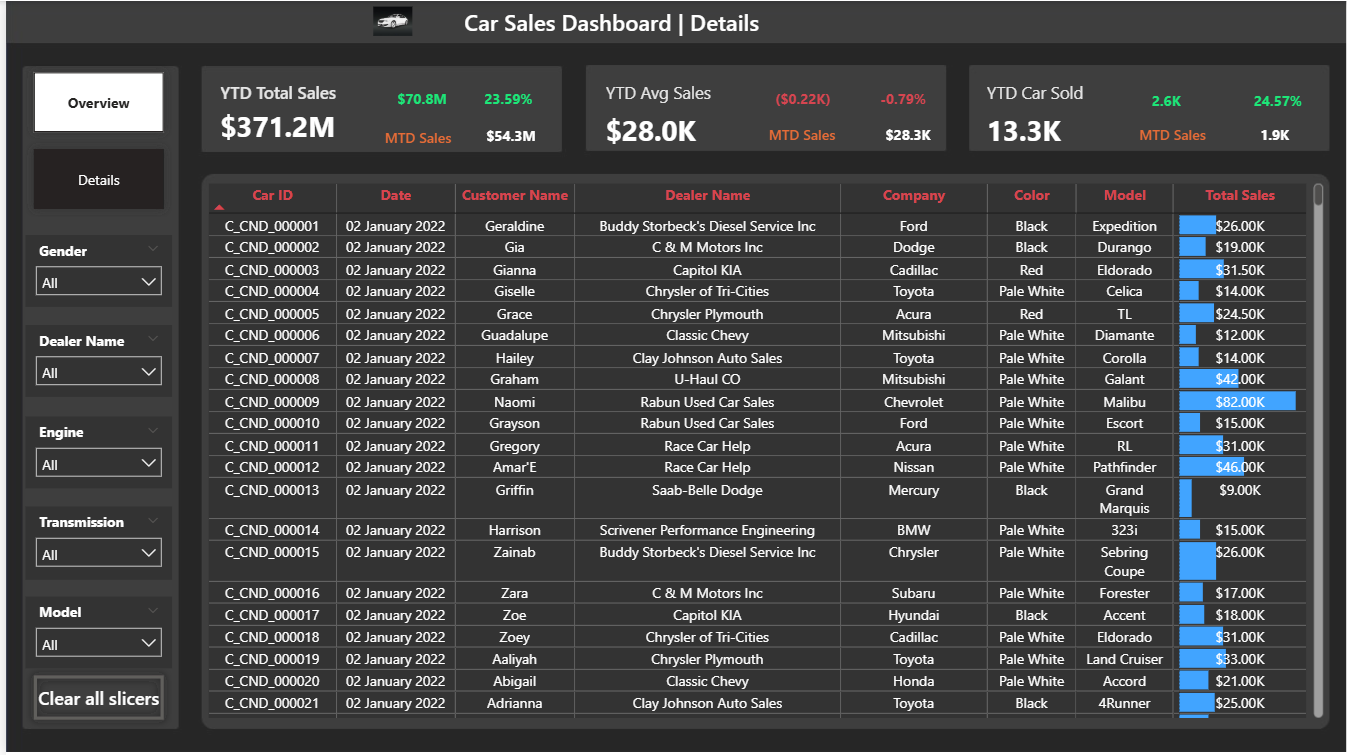

The page's visual inventory and layout, read from the dashboard file:
{"tool":"powerbi","page":{"name":"Details","canvas":[1280,720],"ordinal":1},"visuals":[{"type":"cardVisual","fields":{"Data":["_Measures.YTD Total Sales"]},"box":[188.4,58.7,149.9,85.1],"z":0},{"type":"cardVisual","fields":{"Data":["_Measures.YTD Avg Sales"]},"box":[556.3,58.6,159.4,84.6],"z":1000},{"type":"cardVisual","fields":{"Data":["_Measures.YTD Car Sold"]},"box":[919,58.6,157.8,84.6],"z":2000},{"type":"cardVisual","fields":{"Data":["_Measures.Sales Diff"]},"box":[356.5,58.7,83,56.7],"z":3000},{"type":"cardVisual","fields":{"Data":["_Measures.YOY %"]},"box":[439.5,58.7,83,56.7],"z":4000},{"type":"cardVisual","fields":{"Data":["_Measures.MTD Total Sales"]},"box":[439.5,101.3,83,42.5],"z":5000},{"type":"textbox","box":[356.5,115.4,83,28.4],"z":6000},{"type":"cardVisual","fields":{"Data":["_Measures.Avg Sales Diff"]},"box":[717.3,58.6,100.8,56.9],"z":7000},{"type":"cardVisual","fields":{"Data":["_Measures.Avg YOY %"]},"box":[818.2,58.7,83,56.7],"z":8000},{"type":"cardVisual","fields":{"Data":["_Measures.Avg MTD Sales"]},"box":[818.2,100.8,83,42.3],"z":9000},{"type":"textbox","box":[723.8,113.9,87.8,29.3],"z":10000},{"type":"cardVisual","fields":{"Data":["_Measures.Car sold diff"]},"box":[1076.8,60.2,83,56.9],"z":11000},{"type":"cardVisual","fields":{"Data":["_Measures.YOY % Car Sold"]},"box":[1174.4,60.2,87.8,56.9],"z":12000},{"type":"cardVisual","fields":{"Data":["_Measures.MTD Sales Car sold"]},"box":[1159.7,100.8,83,39],"z":13000},{"type":"textbox","box":[1076.8,113.9,83,29.3],"z":14000},{"type":"textbox","box":[310.7,0,535.1,39],"z":15000},{"type":"slicer","fields":{"Values":["car_data.Dealer_Name"]},"box":[18.3,310,140,68.3],"z":16000},{"type":"slicer","fields":{"Values":["car_data.Engine"]},"box":[18.3,396.7,140,68.3],"z":17000},{"type":"slicer","fields":{"Values":["car_data.Transmission"]},"box":[18.3,483.3,140,70],"z":18000},{"type":"slicer","fields":{"Values":["car_data.Model"]},"box":[18.3,568.3,140,68.3],"z":19000},{"type":"slicer","fields":{"Values":["car_data.Gender"]},"box":[18.3,223.3,140,68.3],"z":20000},{"type":"pageNavigator","box":[18.3,60,140,146.7],"z":21000},{"type":"image","box":[300,0,140,38.3],"z":22000},{"type":"actionButton","box":[18.3,636.7,140,58.3],"z":23000},{"type":"tableEx","fields":{"Values":["car_data.Car_id","car_data.Date","car_data.Customer Name","car_data.Dealer_Name","car_data.Company","car_data.Color","car_data.Model","Sum(car_data.Price ($))"]},"box":[188.3,168.3,1075,520],"z":24000}]}

Visuals, with their boxes on the page's 1280x720 design canvas (x1, y1, x2, y2). These are canvas units, not pixel positions in the 1347x755 screenshot, which may show the page scaled, cropped or inside an application window:
cardVisual - _Measures.YTD Total Sales: bbox=(188, 59, 338, 144)
cardVisual - _Measures.YTD Avg Sales: bbox=(556, 59, 716, 143)
cardVisual - _Measures.YTD Car Sold: bbox=(919, 59, 1077, 143)
cardVisual - _Measures.Sales Diff: bbox=(356, 59, 440, 115)
cardVisual - _Measures.YOY %: bbox=(440, 59, 522, 115)
cardVisual - _Measures.MTD Total Sales: bbox=(440, 101, 522, 144)
textbox: bbox=(356, 115, 440, 144)
cardVisual - _Measures.Avg Sales Diff: bbox=(717, 59, 818, 116)
cardVisual - _Measures.Avg YOY %: bbox=(818, 59, 901, 115)
cardVisual - _Measures.Avg MTD Sales: bbox=(818, 101, 901, 143)
textbox: bbox=(724, 114, 812, 143)
cardVisual - _Measures.Car sold diff: bbox=(1077, 60, 1160, 117)
cardVisual - _Measures.YOY % Car Sold: bbox=(1174, 60, 1262, 117)
cardVisual - _Measures.MTD Sales Car sold: bbox=(1160, 101, 1243, 140)
textbox: bbox=(1077, 114, 1160, 143)
textbox: bbox=(311, 0, 846, 39)
slicer - car_data.Dealer_Name: bbox=(18, 310, 158, 378)
slicer - car_data.Engine: bbox=(18, 397, 158, 465)
slicer - car_data.Transmission: bbox=(18, 483, 158, 553)
slicer - car_data.Model: bbox=(18, 568, 158, 637)
slicer - car_data.Gender: bbox=(18, 223, 158, 292)
pageNavigator: bbox=(18, 60, 158, 207)
image: bbox=(300, 0, 440, 38)
actionButton: bbox=(18, 637, 158, 695)
tableEx - car_data.Car_id x car_data.Date: bbox=(188, 168, 1263, 688)
